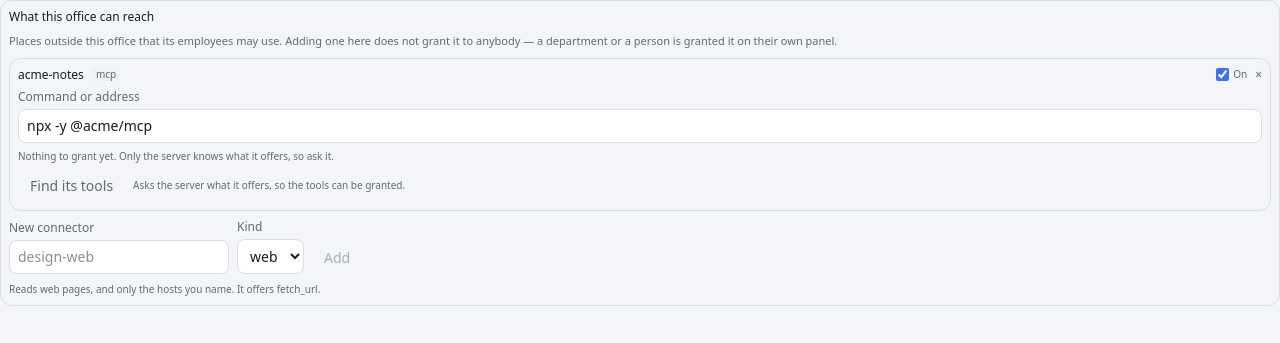
it: finding out what an MCP server offers › asks, and the tools appear so they can be granted
Click the button "Find its tools": (72, 186) x1=18 y1=170 x2=125 y2=202
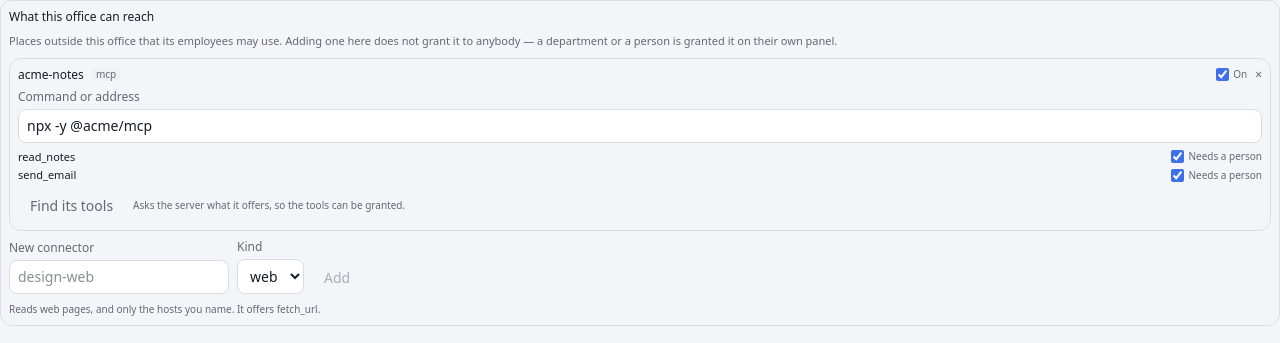
Check: the element "acme-notes" shows "send_email", box x1=18 y1=167 x2=76 y2=182
